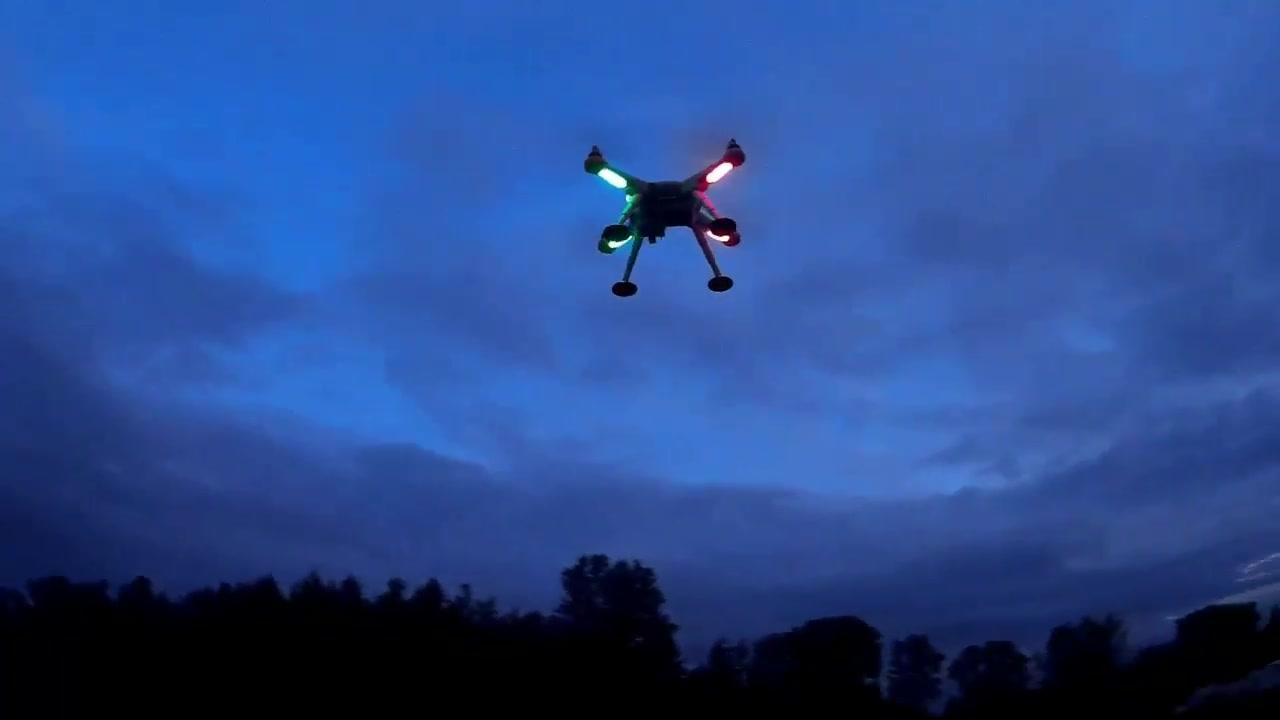UAV: (584, 139, 747, 298)
